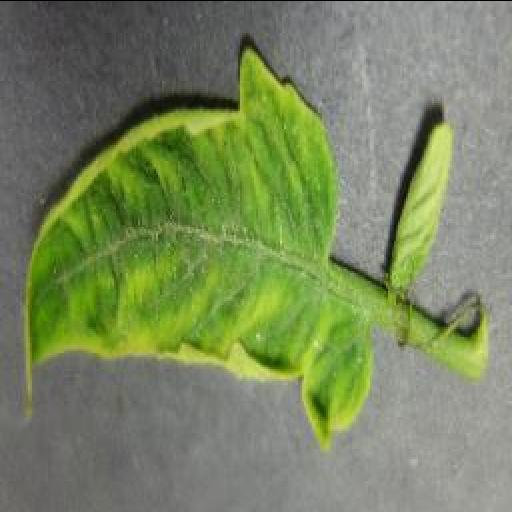disease_tomato: (23, 46, 377, 452), (386, 113, 456, 291)
